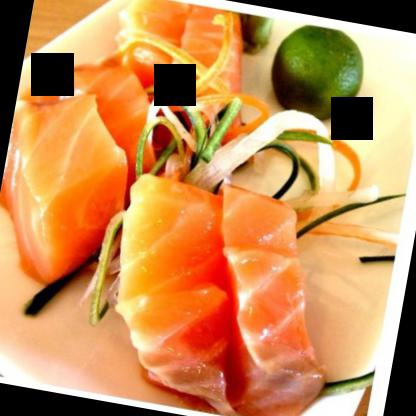lemon: (262, 13, 368, 128)
salmon: (88, 167, 267, 415), (182, 186, 355, 415), (0, 82, 139, 291), (102, 0, 256, 151)
